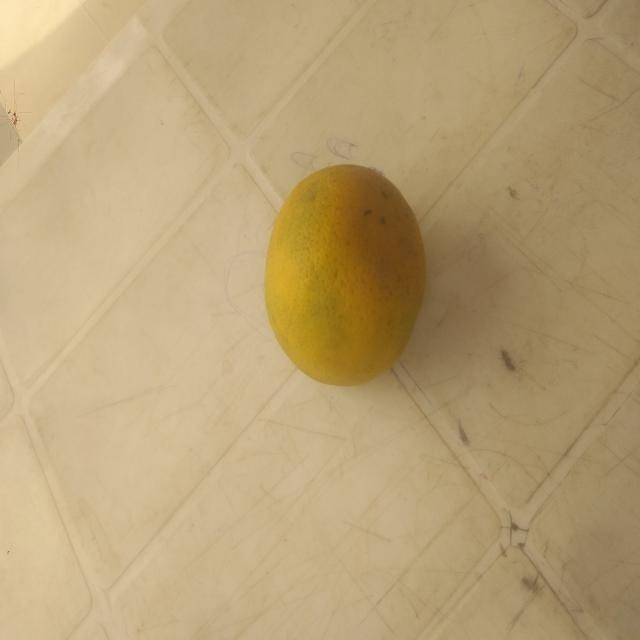agrume: (248, 152, 440, 398)
